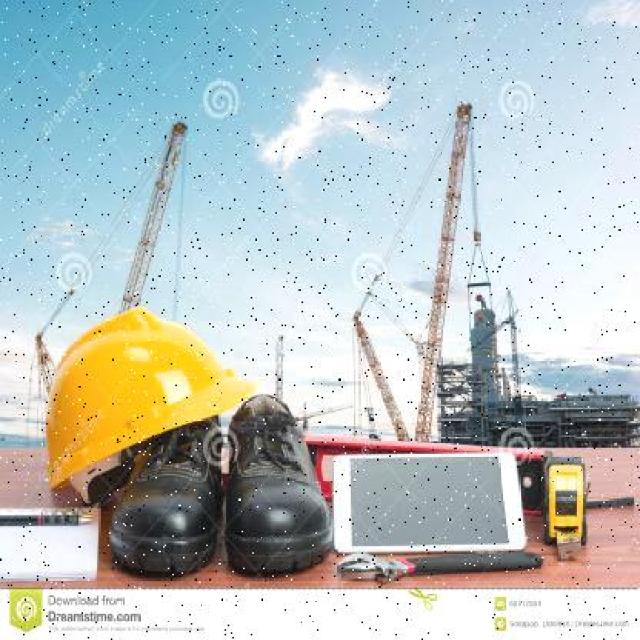shoes: (227, 389, 336, 582), (135, 408, 220, 574)
